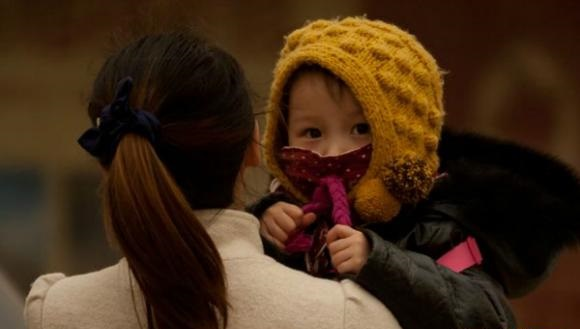face_mask: (286, 78, 397, 210)
